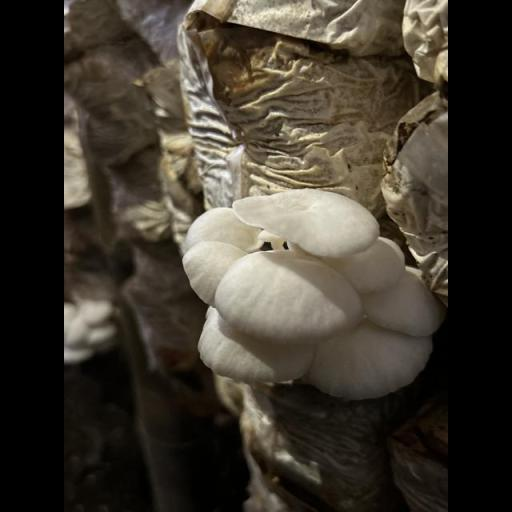White Oyster Mushroom: (185, 189, 440, 395)
